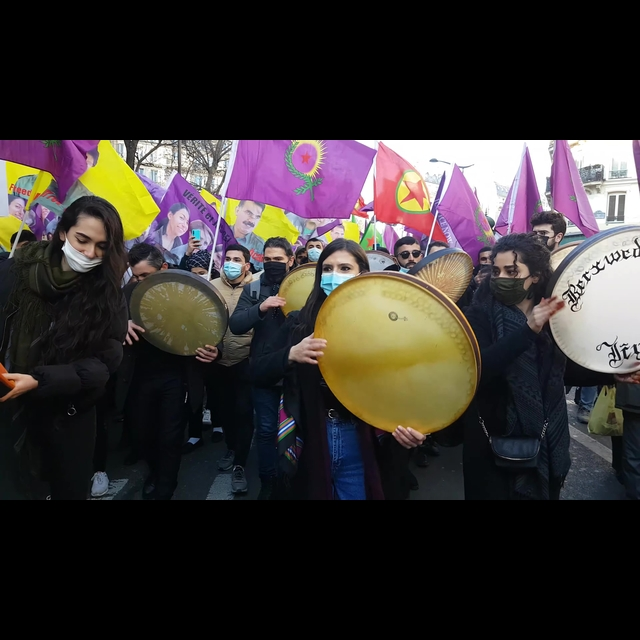APO: (229, 199, 272, 234)
PKK: (374, 142, 438, 229)
